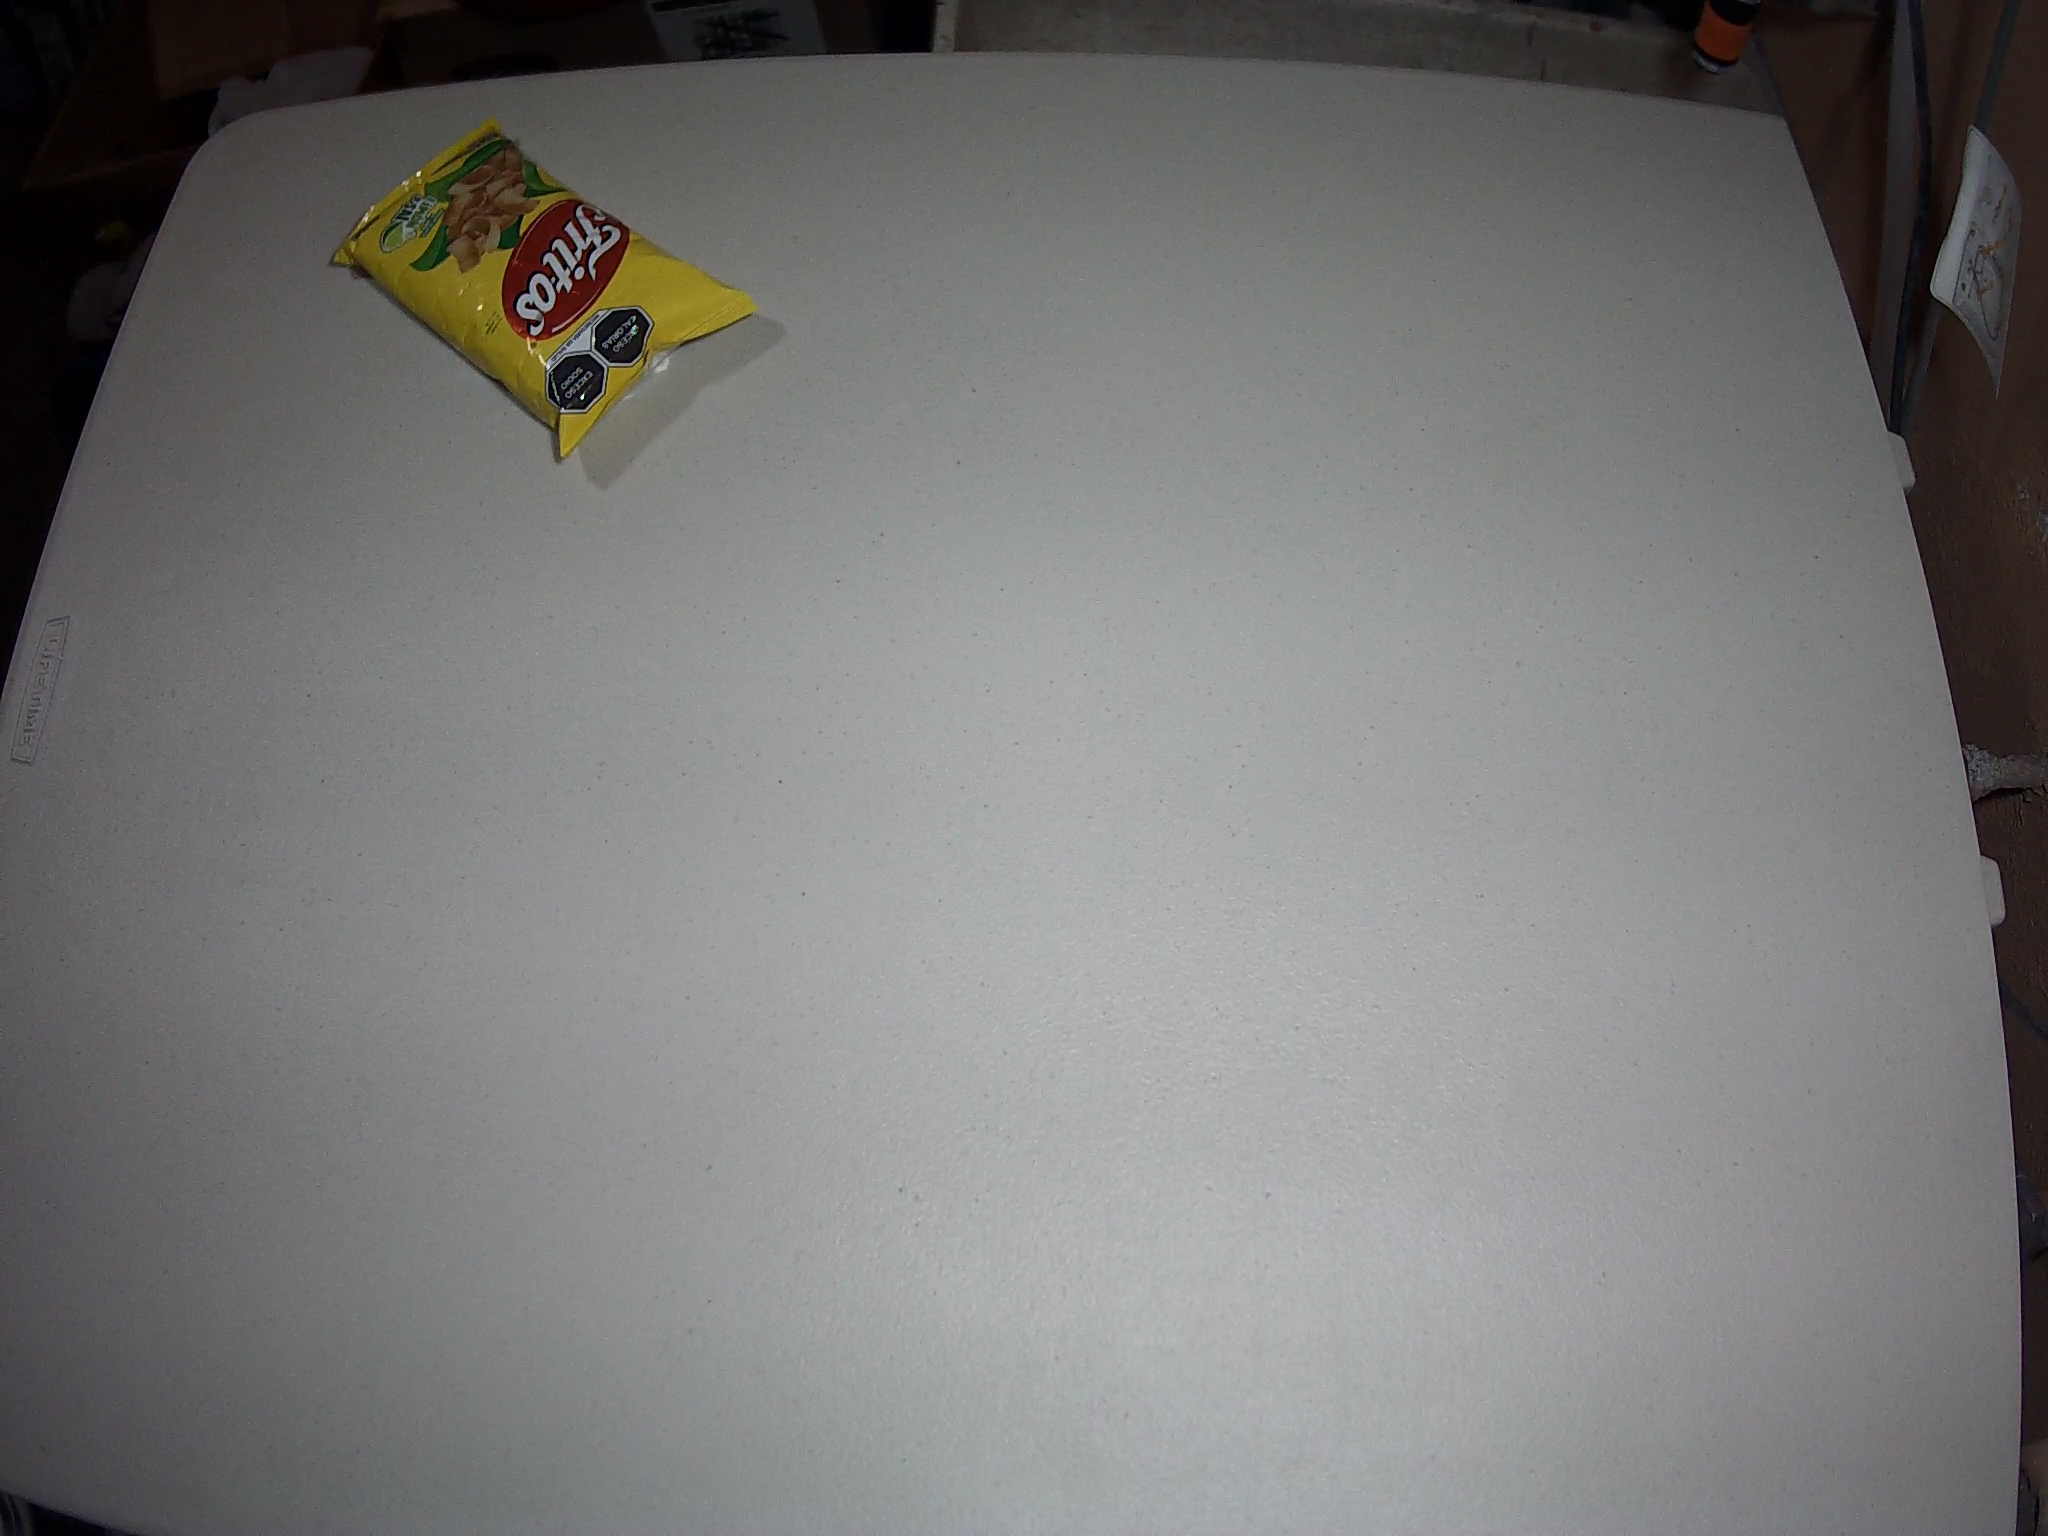FritosSalLimon_65_F: (327, 115, 763, 466)
